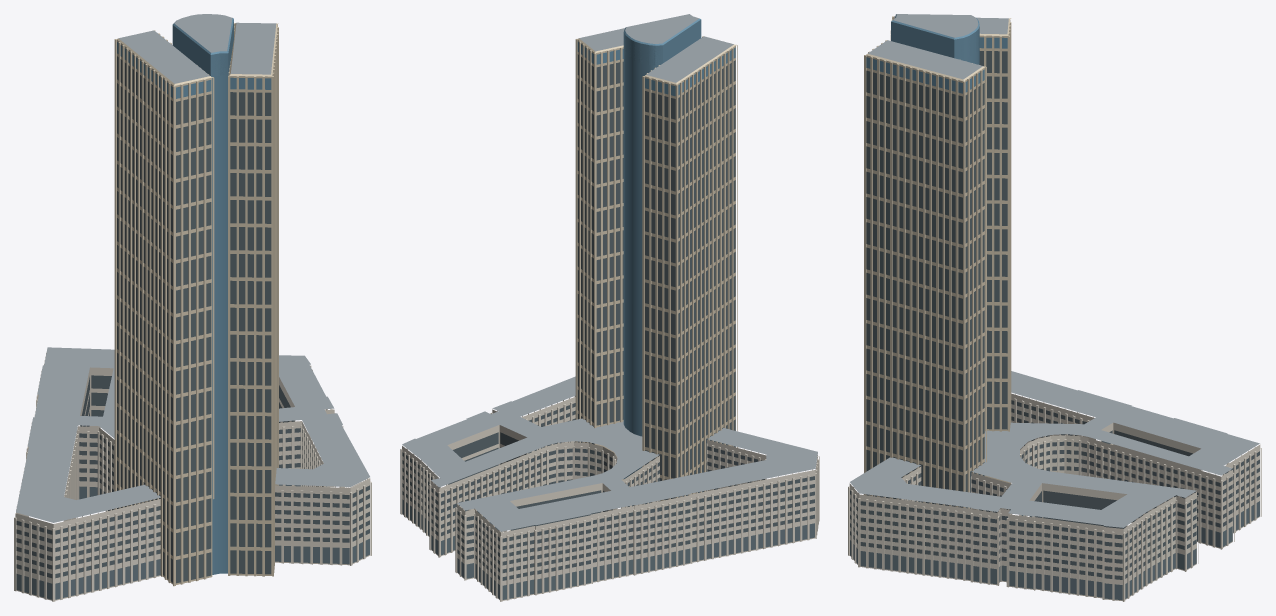
Rendered from frankfurt-tower-185.glb.
3 renders of one model, left to right at view 1: azimuth 30°, elevation 25°; view 2: azimuth 150°, elevation 25°; view 3: azimuth 270°, elevation 25°, orthographic. The views are drawn at different scales.
Parts seen in each view (by area): view 1: Tower 185; view 2: Tower 185; view 3: Tower 185.
Part boxes in pixels (x1,y1,x2,y2): Tower 185: (14,14,371,601); Tower 185: (400,14,819,601); Tower 185: (848,14,1261,601).
Bounding box in the file's own units: 153 × 200 × 153.
